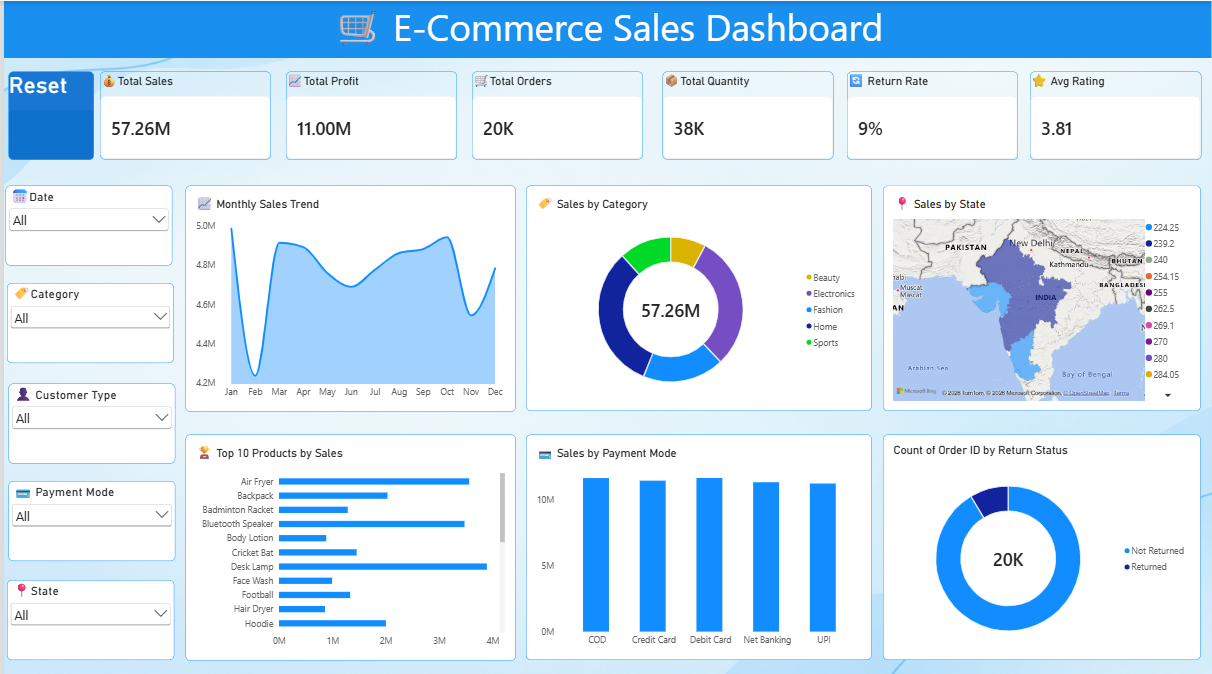

What the dashboard file says about the page in this screenshot:
{"tool":"powerbi","page":{"name":"Page 1","canvas":[1920,1080],"ordinal":0},"visuals":[{"type":"textbox","box":[0,0,1920.7,90.7],"z":0},{"type":"slicer","fields":{"Values":["Orders.Order Date"]},"box":[2.3,293,265,127],"z":1000},{"type":"slicer","fields":{"Values":["Category_Check.Category"]},"box":[4.5,447.4,265,127],"z":2000},{"type":"slicer","fields":{"Values":["Location_Master.State"]},"box":[4.5,922.2,265.7,127.2],"z":3000},{"type":"slicer","fields":{"Values":["Customer_Data_Quality.Customer_Type_Variants"]},"box":[6.8,608.7,265,127],"z":4000},{"type":"slicer","fields":{"Values":["Orders.Payment Mode"]},"box":[6.8,763.2,265,127],"z":5000},{"type":"actionButton","title":"Reset","box":[6.8,111.3,136.3,140.8],"z":6000},{"type":"cardVisual","title":"💰Total Sales","fields":{"Data":["Orders.Total Sales"]},"box":[152.2,111.3,272,140],"z":7000},{"type":"cardVisual","title":"📈Total Profit","fields":{"Data":["Orders.Total Profit"]},"box":[447.4,111.3,272,140.8],"z":8000},{"type":"cardVisual","title":"🛒Total Orders","fields":{"Data":["Orders.Total Orders"]},"box":[745,111.3,272,140],"z":9000},{"type":"cardVisual","title":"📦Total Quantity","fields":{"Data":["Orders.Total Quantity"]},"box":[1047.1,111.3,272,140],"z":10000},{"type":"cardVisual","title":"🔄 Return Rate","fields":{"Data":["Orders.Return Rate"]},"box":[1340.1,111.3,272,140.8],"z":11000},{"type":"cardVisual","title":"⭐ Avg Rating","fields":{"Data":["Orders.Avg Rating"]},"box":[1630.8,111.3,272.6,140.8],"z":12000},{"type":"areaChart","title":"📈 Monthly Sales Trend","fields":{"Category":["Orders.Month"],"Y":["Sum(Orders.Order Value)"]},"box":[288.5,293,525,360],"z":13000},{"type":"donutChart","title":"🏷️ Sales by Category","fields":{"Y":["Sum(Orders.Order Value)"],"Category":["Product_Master.Category"]},"box":[831.3,293,550,358.9],"z":14000},{"type":"filledMap","title":" 📍 Sales by State","fields":{"Category":["Location_Master.State"],"Series":["Orders.Order Value"]},"box":[1399.1,293,505,358.9],"z":15000},{"type":"barChart","title":"🏆 Top 10 Products by Sales","fields":{"Category":["Product_Master.Product"],"Y":["Sum(Orders.Order Value)"]},"box":[288.5,690.5,525,360],"z":16000},{"type":"clusteredColumnChart","title":"💳 Sales by Payment Mode","fields":{"Category":["Orders.Payment Mode"],"Y":["Sum(Orders.Order Value)"]},"box":[831.3,690.5,550,358.9],"z":17000},{"type":"donutChart","fields":{"Category":["Orders.Return Status"],"Y":["CountNonNull(Orders.Order ID)"]},"box":[1399.1,690.5,505,358.9],"z":18000}]}

Visuals, with their boxes in screenshot pixels (x1, y1, x2, y2), scaled from the page's 1920x1080 canvas onto the 1212x674 screenshot:
textbox: (x1=0, y1=0, x2=1211, y2=57)
slicer - Orders.Order Date: (x1=1, y1=183, x2=169, y2=262)
slicer - Category_Check.Category: (x1=3, y1=279, x2=170, y2=358)
slicer - Location_Master.State: (x1=3, y1=576, x2=171, y2=655)
slicer - Customer_Data_Quality.Customer_Type_Variants: (x1=4, y1=380, x2=172, y2=459)
slicer - Orders.Payment Mode: (x1=4, y1=476, x2=172, y2=556)
"Reset" actionButton: (x1=4, y1=69, x2=90, y2=157)
"💰Total Sales" cardVisual: (x1=96, y1=69, x2=268, y2=157)
"📈Total Profit" cardVisual: (x1=282, y1=69, x2=454, y2=157)
"🛒Total Orders" cardVisual: (x1=470, y1=69, x2=642, y2=157)
"📦Total Quantity" cardVisual: (x1=661, y1=69, x2=833, y2=157)
"🔄 Return Rate" cardVisual: (x1=846, y1=69, x2=1018, y2=157)
"⭐ Avg Rating" cardVisual: (x1=1029, y1=69, x2=1202, y2=157)
"📈 Monthly Sales Trend" areaChart: (x1=182, y1=183, x2=514, y2=408)
"🏷️ Sales by Category" donutChart: (x1=525, y1=183, x2=872, y2=407)
" 📍 Sales by State" filledMap: (x1=883, y1=183, x2=1202, y2=407)
"🏆 Top 10 Products by Sales" barChart: (x1=182, y1=431, x2=514, y2=656)
"💳 Sales by Payment Mode" clusteredColumnChart: (x1=525, y1=431, x2=872, y2=655)
donutChart - Orders.Return Status x CountNonNull(Orders.Order ID): (x1=883, y1=431, x2=1202, y2=655)
